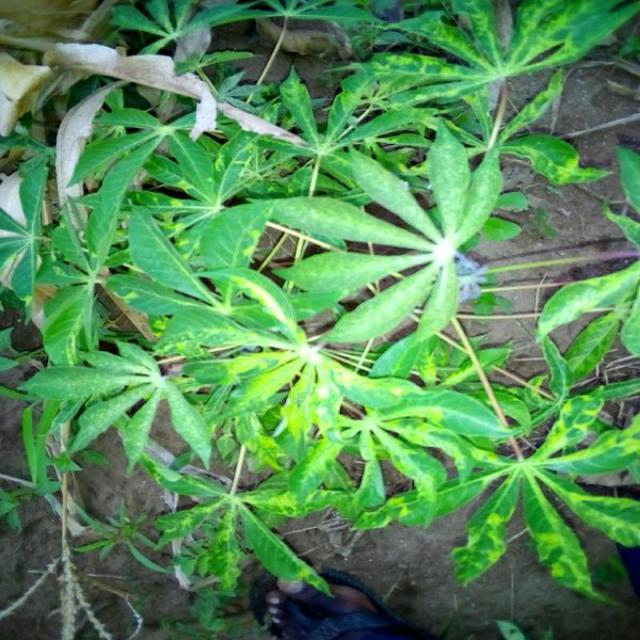cassava leaf: (2, 1, 640, 612), (270, 118, 512, 358)
